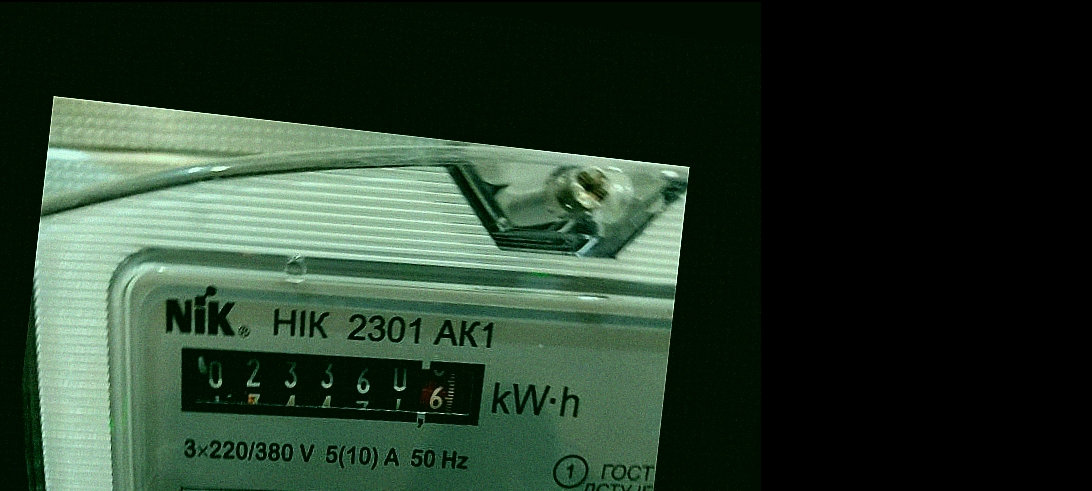0: (202, 355, 228, 392), (386, 362, 411, 395)
2: (241, 355, 265, 390)
3: (316, 356, 338, 391), (278, 358, 300, 391)
6: (350, 362, 375, 397), (424, 379, 448, 414)
screen: (157, 320, 503, 452)
